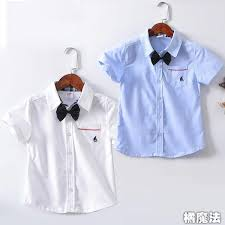F_shirt: (101, 26, 225, 159), (7, 85, 120, 213)
